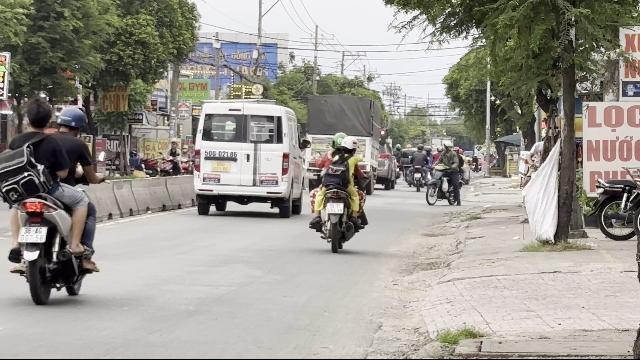helmet: (54, 104, 86, 136), (341, 135, 359, 155), (331, 132, 347, 148)
licenseplate: (19, 228, 47, 243), (327, 203, 343, 213)
motorcyclist: (0, 98, 101, 304), (306, 130, 368, 250)
nohelmet: (22, 98, 54, 132)
